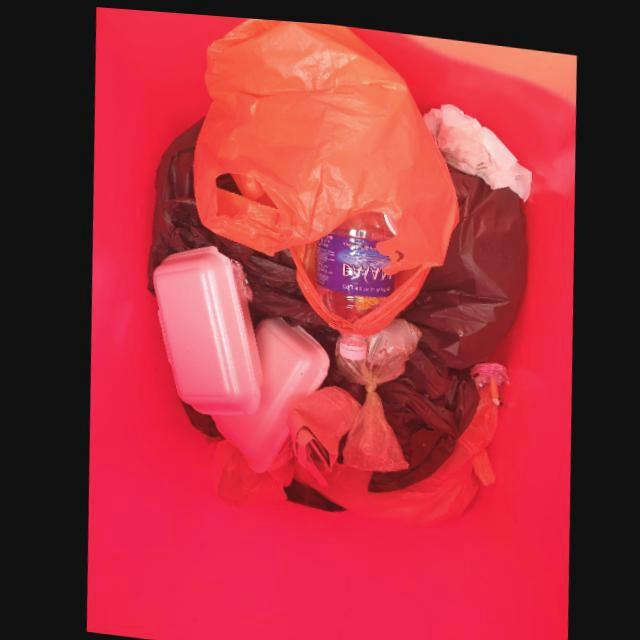paper: (423, 97, 531, 194)
plastic_bag: (191, 15, 458, 270), (333, 313, 420, 466)
plastic_bottle: (315, 206, 395, 318)
